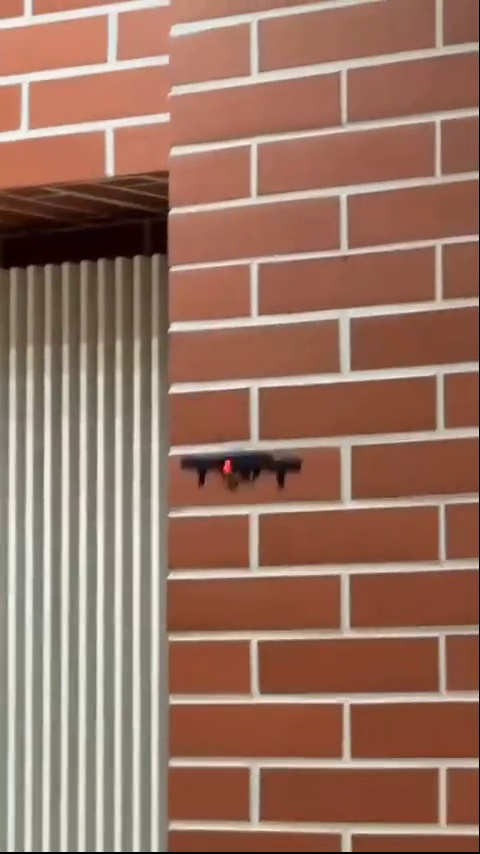drone: (176, 441, 312, 501)
